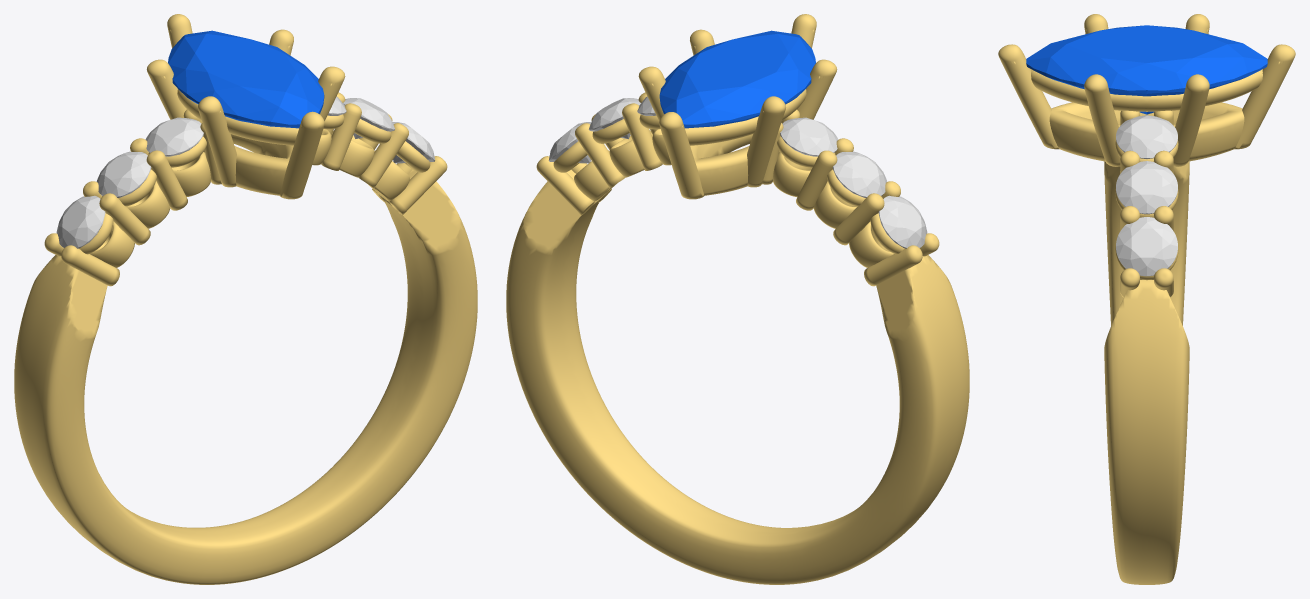
File: bluesapphire-marquise-yellowgold-6prong-straighttaperedband-7stone.glb
3 views of the same model, side by side, from view 1: azimuth 30°, elevation 25°; view 2: azimuth 150°, elevation 25°; view 3: azimuth 270°, elevation 25° (orthographic).
Parts seen in each view (by area): view 1: metal.001, stone.001, side.001, side.008, side.009, side.011, side.010; view 2: metal.001, stone.001, side.001, side.008, side.009, side.011, side.010; view 3: metal.001, stone.001, side.010, side.011, side.012.
Boxes of the visible parts, left/top/right/bottom form: metal.001: left=14, top=14, right=477, bottom=584; stone.001: left=168, top=30, right=324, bottom=128; side.001: left=56, top=195, right=105, bottom=248; side.008: left=96, top=151, right=151, bottom=197; side.009: left=145, top=117, right=203, bottom=156; side.011: left=343, top=98, right=394, bottom=138; side.010: left=392, top=122, right=435, bottom=163; metal.001: left=506, top=14, right=969, bottom=584; stone.001: left=659, top=30, right=815, bottom=128; side.001: left=878, top=195, right=927, bottom=248; side.008: left=832, top=151, right=886, bottom=197; side.009: left=780, top=117, right=838, bottom=156; side.011: left=589, top=98, right=640, bottom=139; side.010: left=548, top=122, right=591, bottom=163; metal.001: left=998, top=14, right=1295, bottom=584; stone.001: left=1026, top=25, right=1267, bottom=114; side.010: left=1116, top=217, right=1177, bottom=276; side.011: left=1116, top=161, right=1177, bottom=214; side.012: left=1116, top=115, right=1177, bottom=158.
Bounding box in the file's own units: 20.51 × 22.93 × 11.96.
